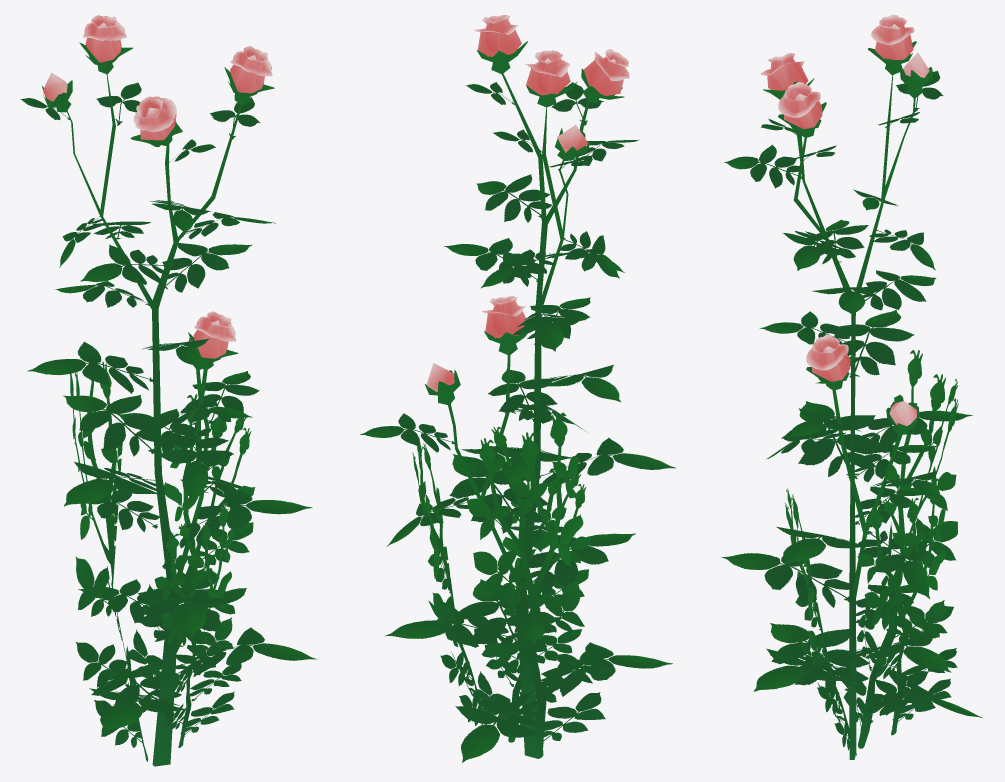
File: PT_Rose_01.fbx
The picture shows the model from 3 angles, left to right: view 1: azimuth 30°, elevation 25°; view 2: azimuth 150°, elevation 25°; view 3: azimuth 270°, elevation 25°; orthographic projection. The views are drawn at different scales.
Visible parts, largest first — view 1: PT_Rose_01_LOD0; view 2: PT_Rose_01_LOD0; view 3: PT_Rose_01_LOD0.
Part boxes in pixels (left/top/right/bottom): PT_Rose_01_LOD0: left=20, top=15, right=317, bottom=766; PT_Rose_01_LOD0: left=360, top=15, right=675, bottom=762; PT_Rose_01_LOD0: left=721, top=14, right=982, bottom=759.
Size of what is drawn, in the model's own units: 52.62 by 141 by 49.24.
